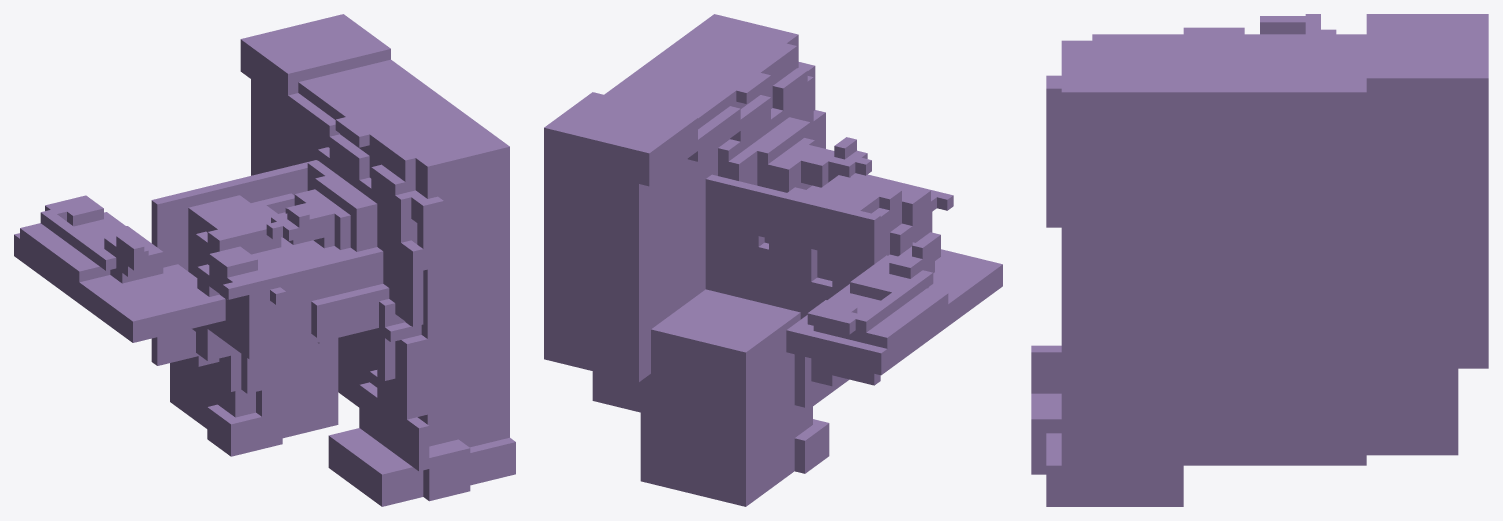
3 renders of one model, left to right at view 1: azimuth 30°, elevation 25°; view 2: azimuth 150°, elevation 25°; view 3: azimuth 270°, elevation 25°, orthographic. The views are drawn at different scales.
Parts seen in each view (by area): view 1: kok-Mesh; view 2: kok-Mesh; view 3: kok-Mesh.
Part boxes in pixels (bbox=[...]): kok-Mesh: bbox=[14, 14, 515, 506]; kok-Mesh: bbox=[544, 14, 1002, 506]; kok-Mesh: bbox=[1031, 14, 1488, 506].
Size of the model in its own units: 32 by 31 by 30.
Materials: 1 (1 with a texture image).
